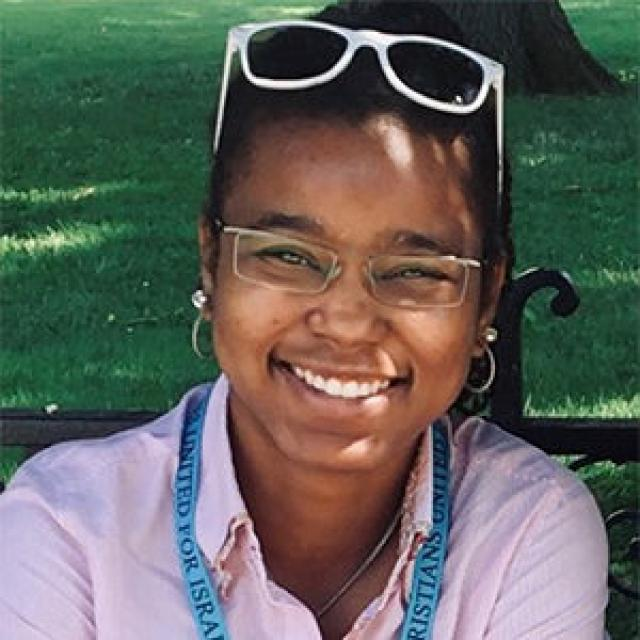Glasses: (215, 212, 486, 312)
